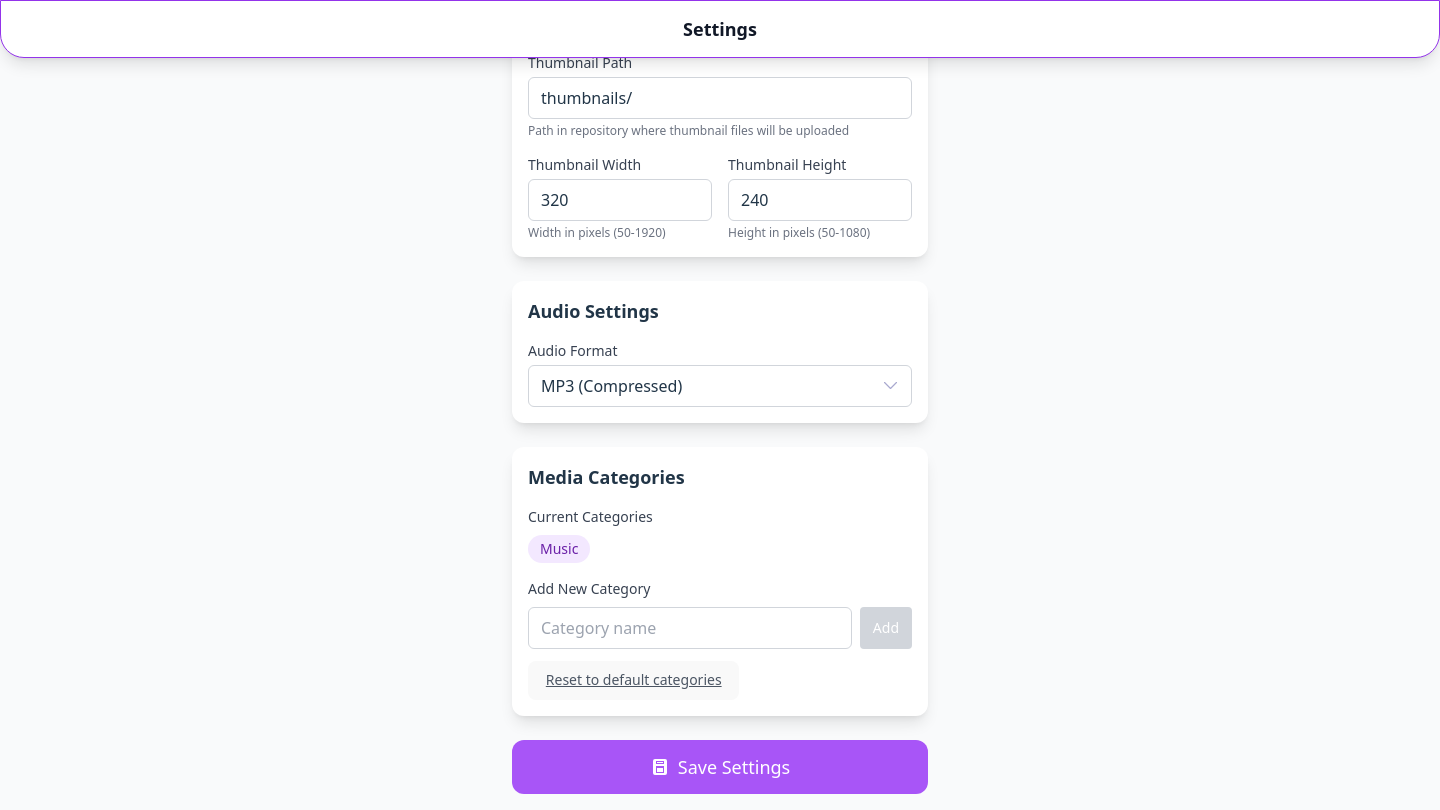
Scenario: Settings › handles adding new category
The image size is (1440, 810).
(page scrolled)
Step 1. Type "Podcast" into the field with placeholder "Category name" → (690, 628), box [528,607,852,649]
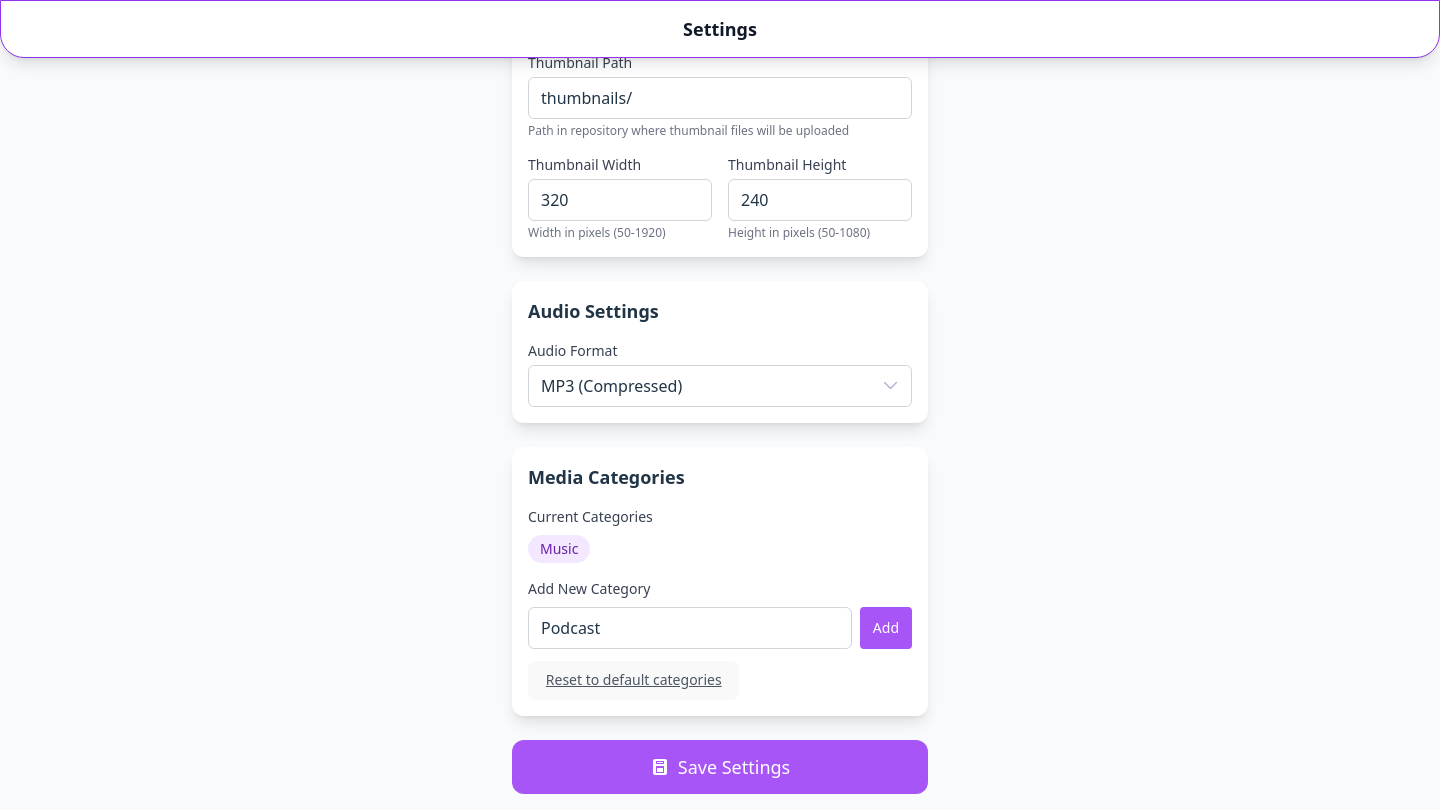
Step 2. Click the button "Add" → (886, 628), box [860,607,912,649]
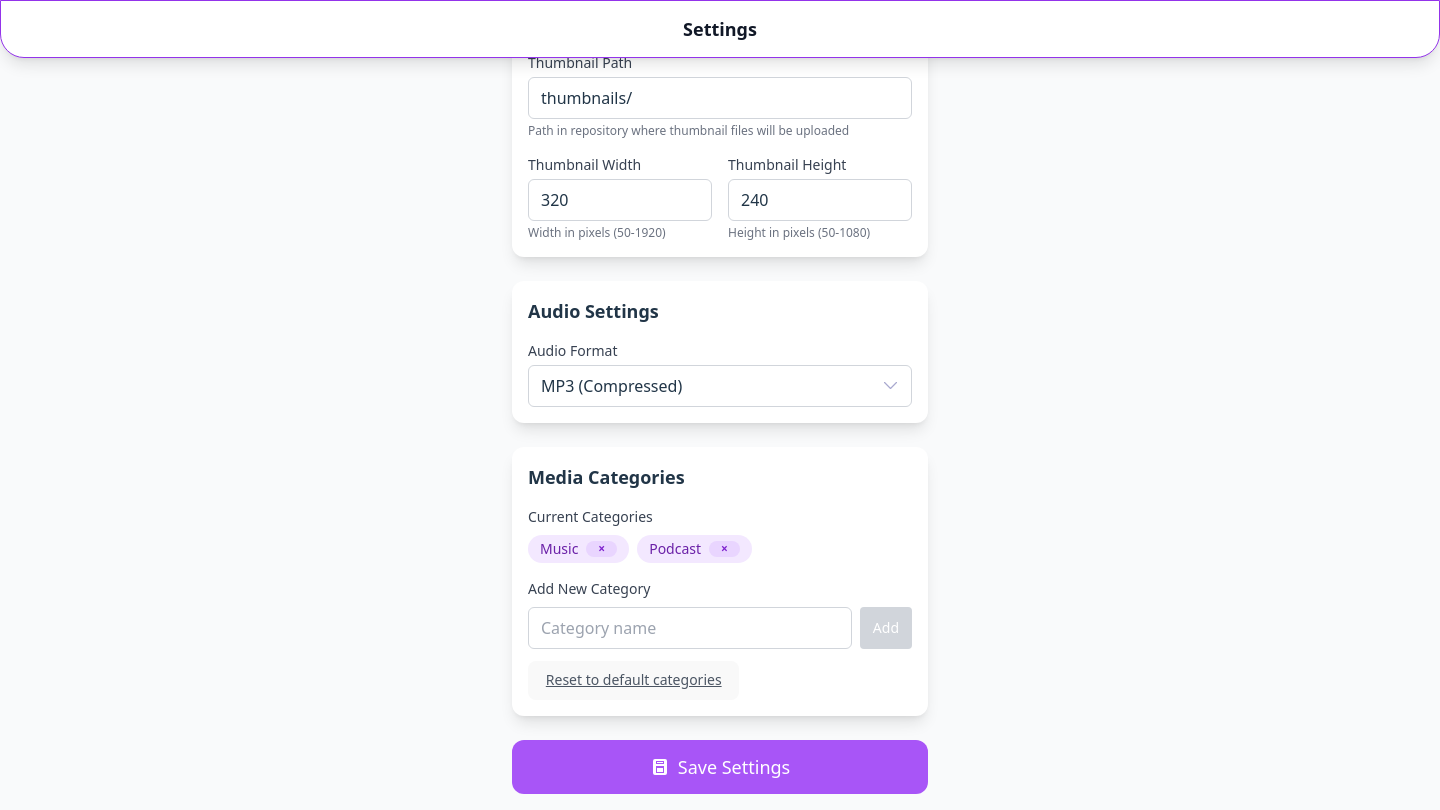
Check: the text "Podcast" is shown, box [649,539,701,559]
Check: the field with placeholder "Category name" is empty, box [528,607,852,649]
